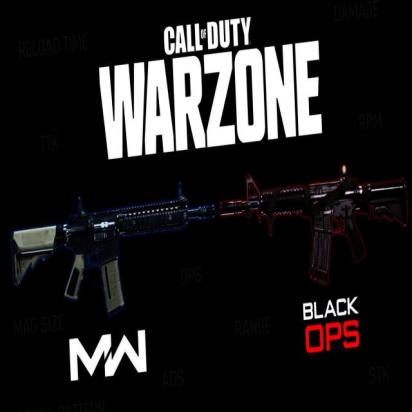Gun: (7, 175, 216, 321), (218, 163, 410, 279)
